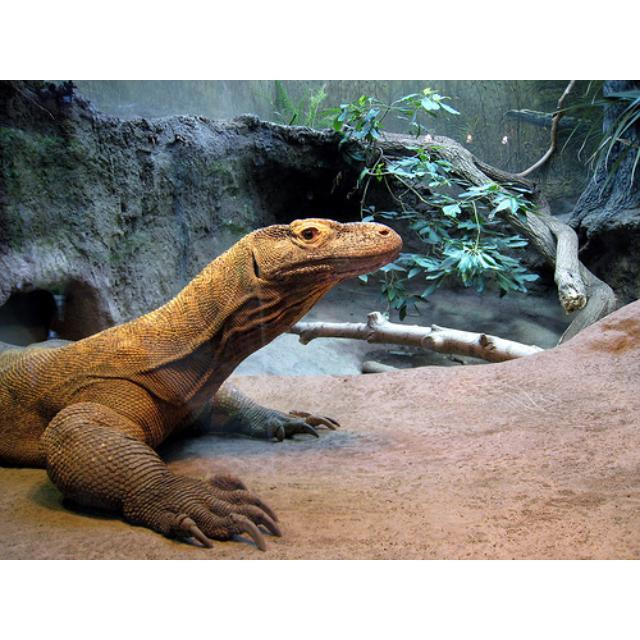KomodoDragon: (1, 218, 404, 552)
